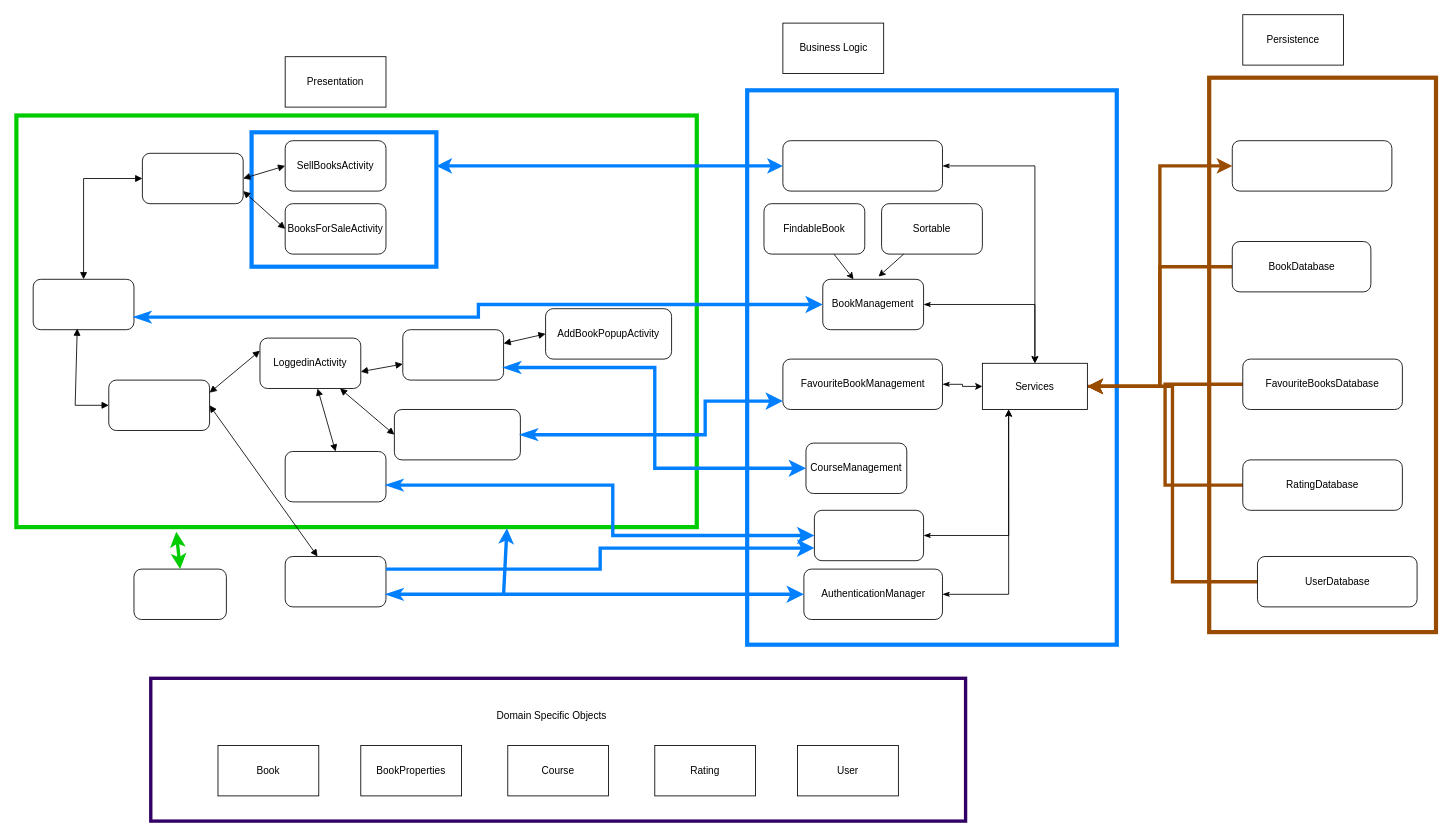
Image size: 1452x837. Some labels were removed from this diagram. Each missing label, with the box of its shape:
AccountActivity: (284, 556, 386, 607)
AccountManagement: (814, 509, 924, 561)
ChangAccount: (284, 451, 386, 502)
CoursesBookActivity: (402, 329, 504, 380)
FavouriteBooksActivity: (394, 409, 520, 460)
FooterUtility: (133, 568, 226, 620)
HomepageActivity: (32, 278, 134, 330)
LibraryActivity: (142, 152, 243, 204)
LoginActivity: (108, 379, 210, 430)
SellBookManagement: (782, 140, 942, 191)
SellBooksDatabase: (1231, 140, 1392, 191)
